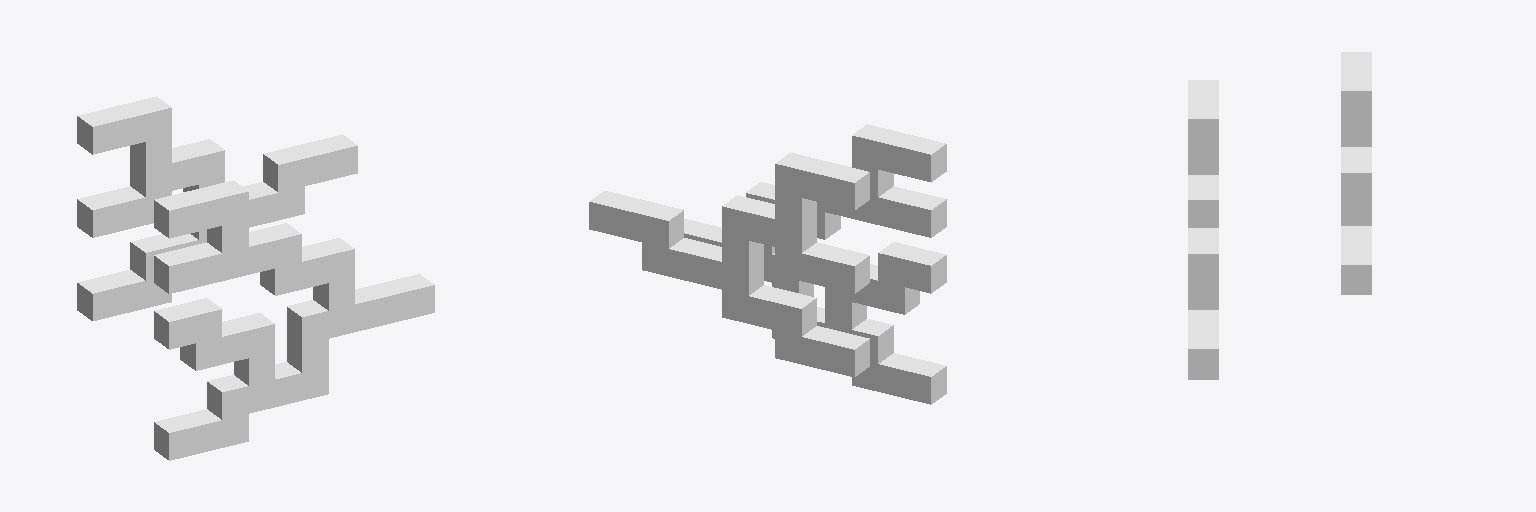
The model's file is water_spike_left.obj.
The picture shows the model from 3 angles: view 1: azimuth 30°, elevation 25°; view 2: azimuth 150°, elevation 25°; view 3: azimuth 270°, elevation 25°; orthographic projection.
Parts seen in each view (by area): view 1: object 1; view 2: object 1; view 3: object 1.
Boxes of the visible parts, x1,y1,x2,y2 form: object 1: [77, 96, 434, 460]; object 1: [589, 124, 946, 404]; object 1: [1188, 52, 1371, 379].
Size of the model in its own units: 1 by 1 by 0.6.